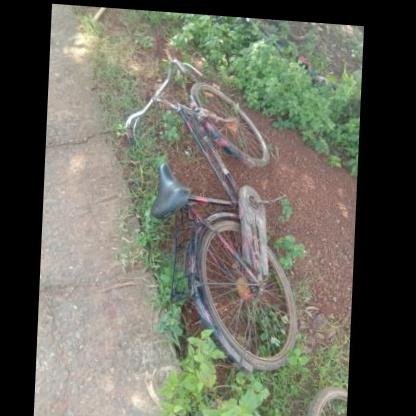Bicycle: (113, 53, 320, 404)
